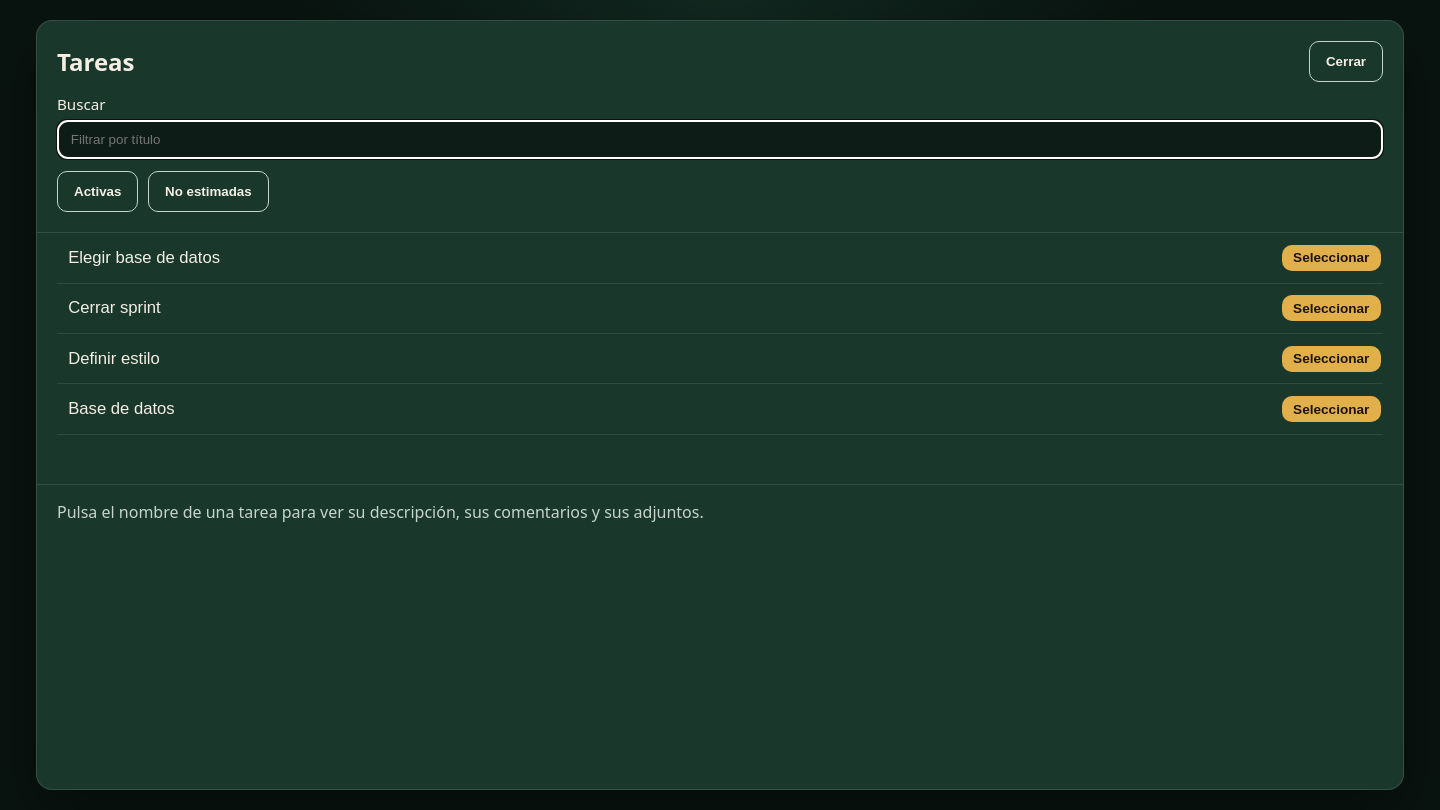
Test: BoardDrawer › filters by a partial title and combines the preset buttons
The image size is (1440, 810).
In the search field labelled "Buscar": (720, 140) [57,120,1383,159], type "base"
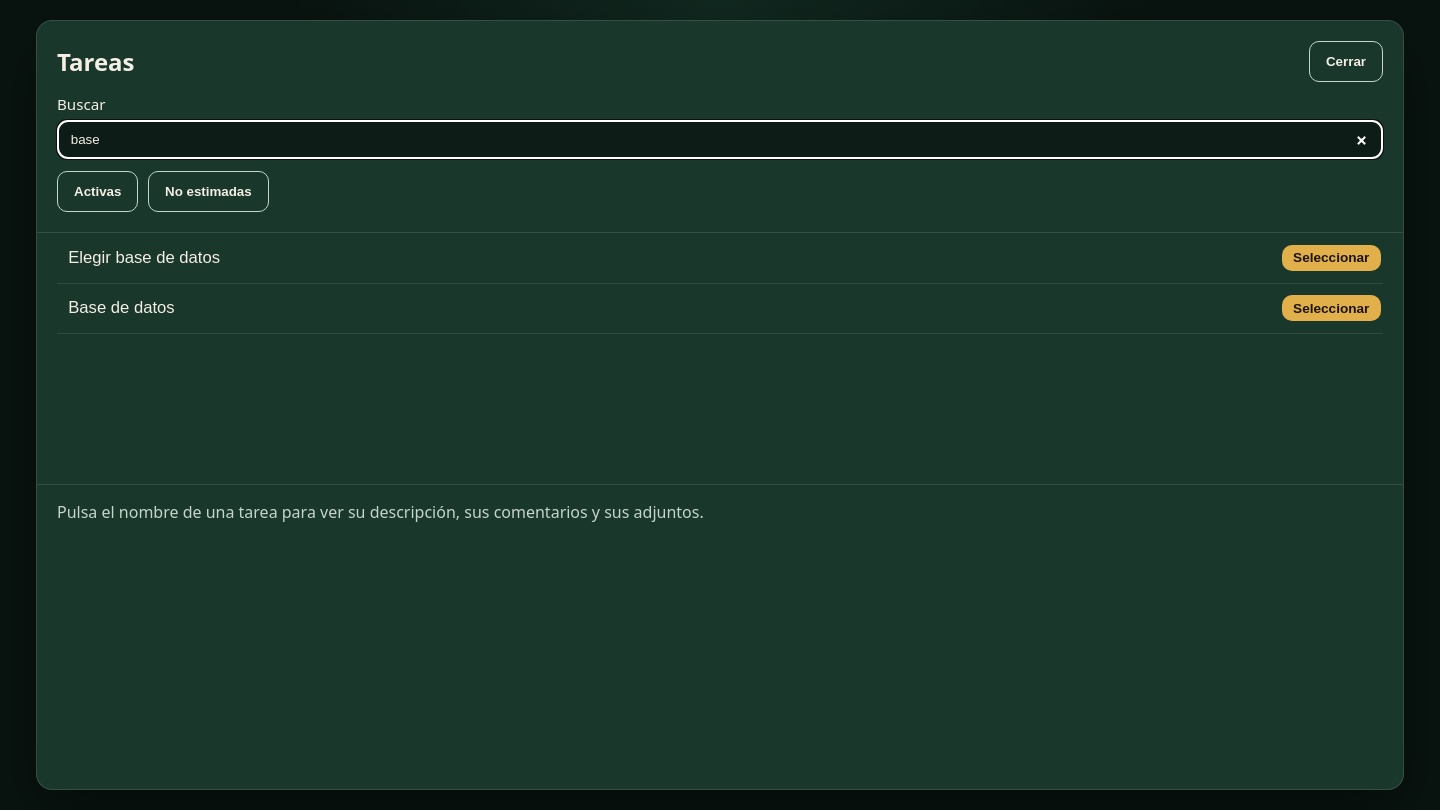
expect the elements with class "board-task-title" read "Elegir base de datos", "Base de datos", in this order: met, box [57,233,1276,283]; [57,284,1276,333]
Click the button "Activas": (98, 192) [57,171,138,212]
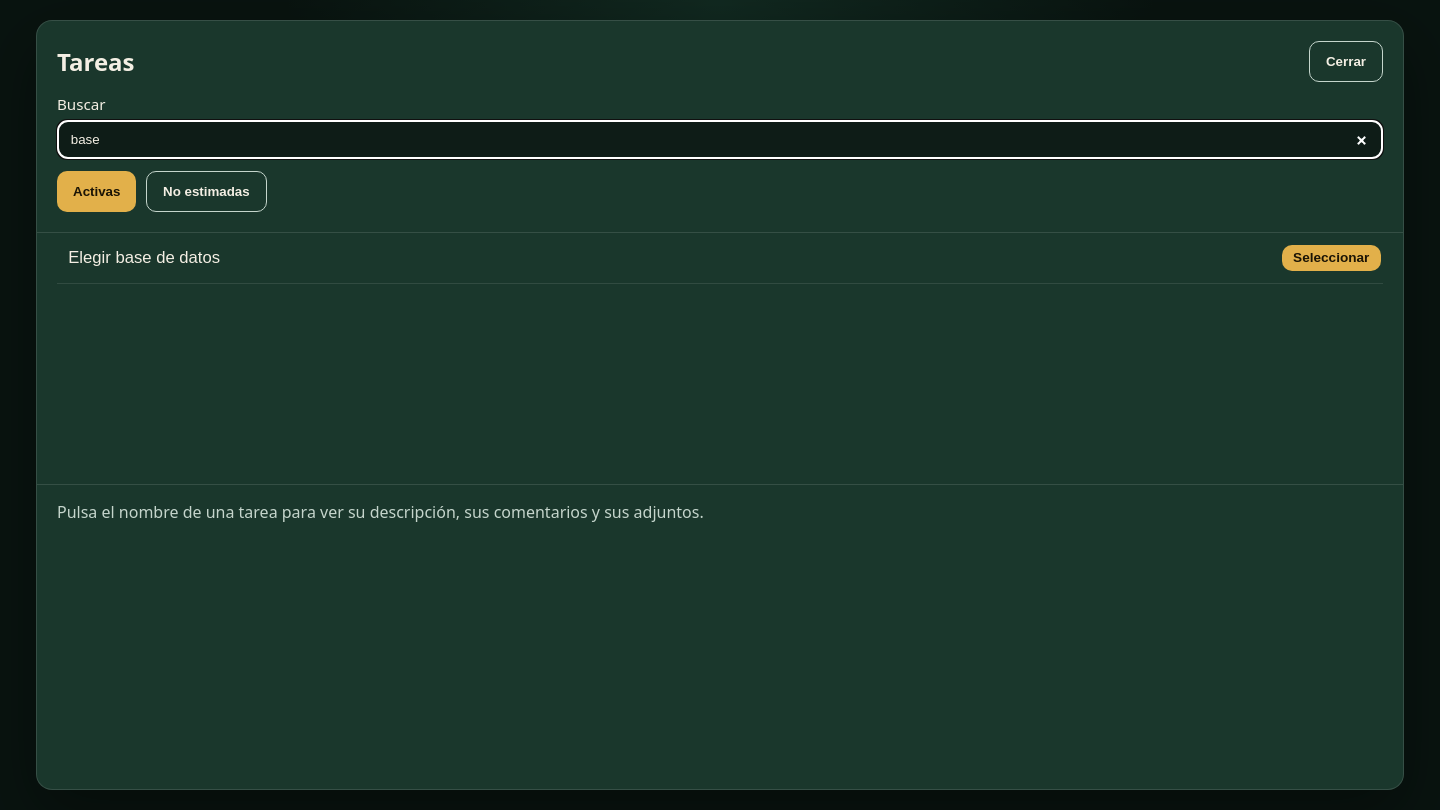
expect the elements with class "board-task-title" read "Elegir base de datos", in this order: met, box [57,233,1276,283]
Click the button "No estimadas": (206, 192) [146,171,267,212]
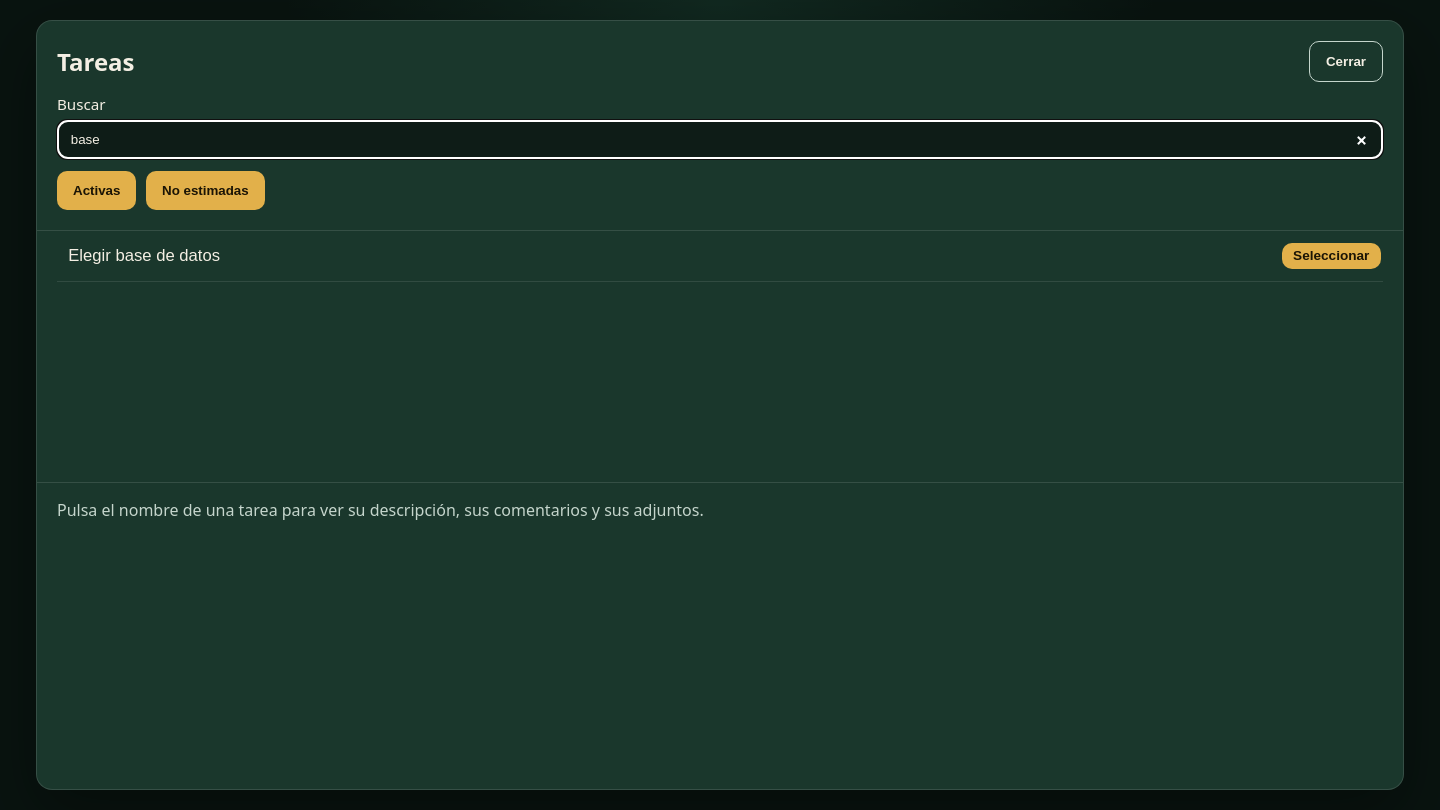
expect the elements with class "board-task-title" read "Elegir base de datos", in this order: met, box [57,231,1276,281]
Clear the search field labelled "Buscar": (720, 140) [57,120,1383,159]
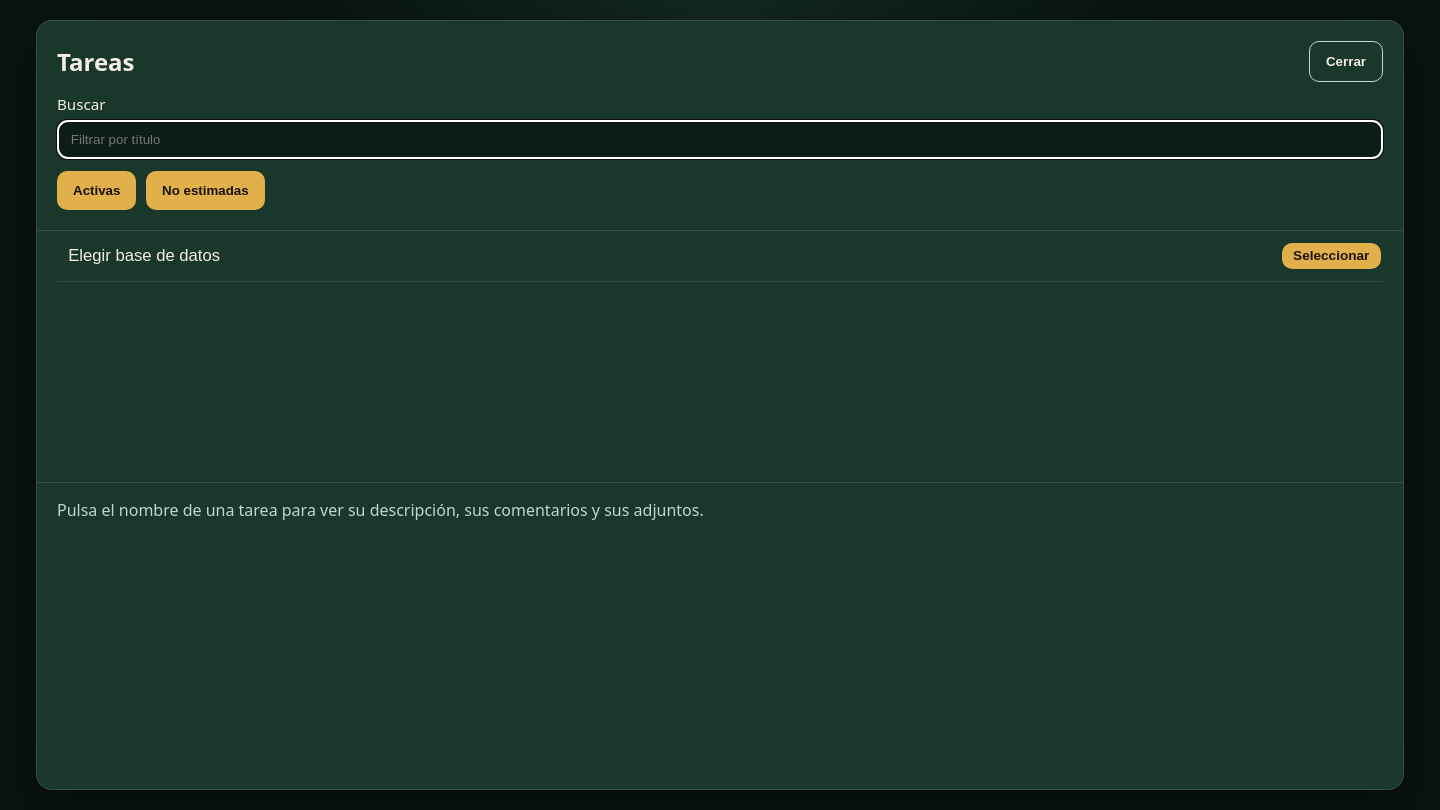
Click the button "Activas": (97, 191) [57,171,136,210]
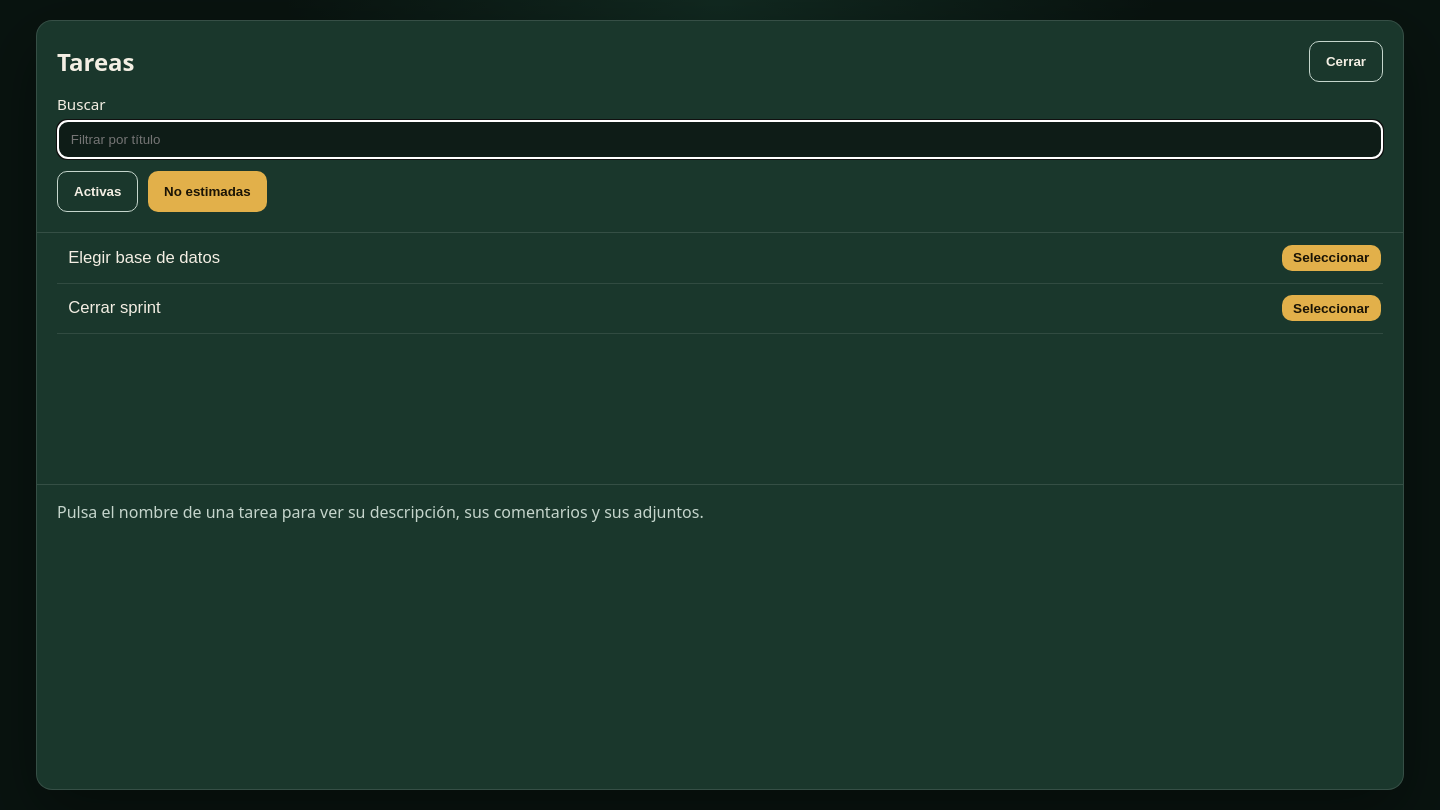
expect the elements with class "board-task-title" read "Elegir base de datos", "Cerrar sprint", in this order: met, box [57,233,1276,283]; [57,284,1276,333]
